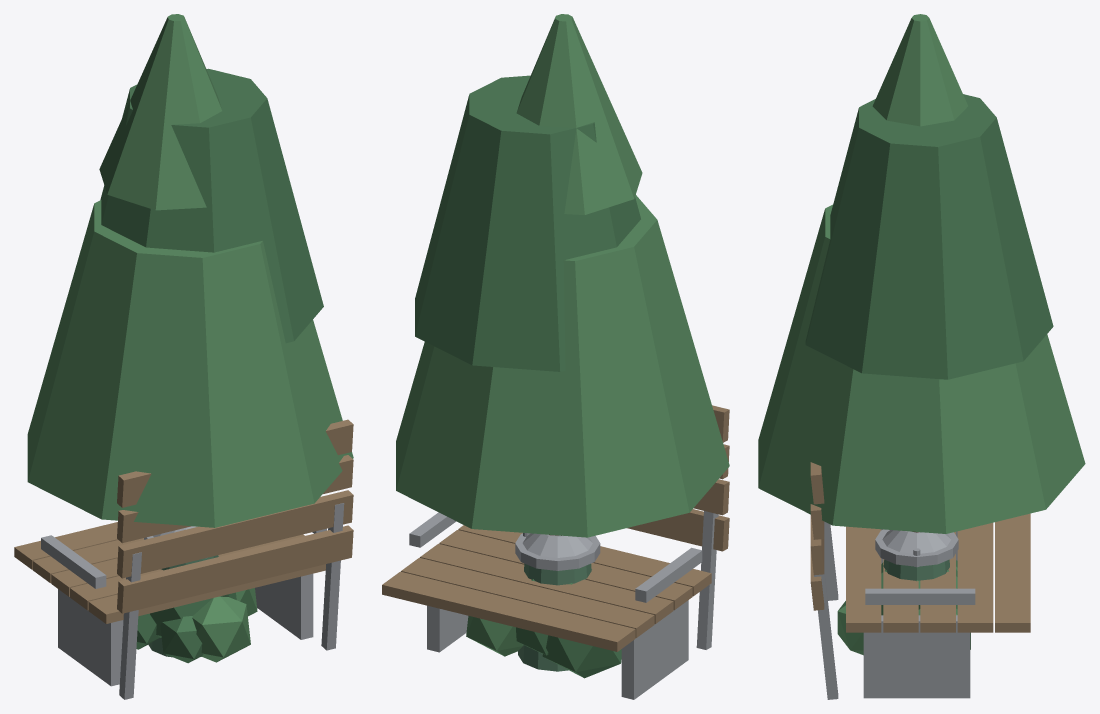
Rendered from scenery.glb.
The picture shows the model from 3 angles, left to right: view 1: azimuth 30°, elevation 25°; view 2: azimuth 150°, elevation 25°; view 3: azimuth 270°, elevation 25°; orthographic projection. The views are drawn at different scales.
Visible parts, largest first — view 1: TreeLow, Bench, ShrubLow; view 2: TreeLow, Bench, TrashBin, ShrubLow; view 3: TreeLow, Bench, TrashBin, ShrubLow.
Boxes of the visible parts, box(x1,y1,x2,y2) form: TreeLow: box(27, 14, 353, 527); Bench: box(14, 419, 353, 699); ShrubLow: box(136, 588, 257, 663); TreeLow: box(396, 14, 729, 537); Bench: box(382, 405, 729, 699); TrashBin: box(515, 533, 600, 671); ShrubLow: box(466, 569, 621, 678); TreeLow: box(758, 14, 1085, 533); Bench: box(810, 462, 1030, 699); TrashBin: box(875, 529, 958, 580); ShrubLow: box(837, 560, 970, 655).
Bounding box in the file's own units: 1.87 × 3.95 × 1.84.
